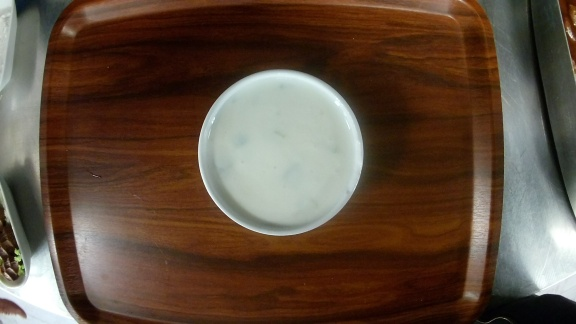cacik: (197, 68, 366, 237)
